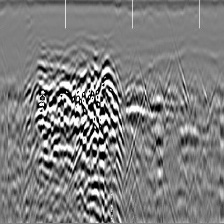cavities: (33, 53, 123, 222)
